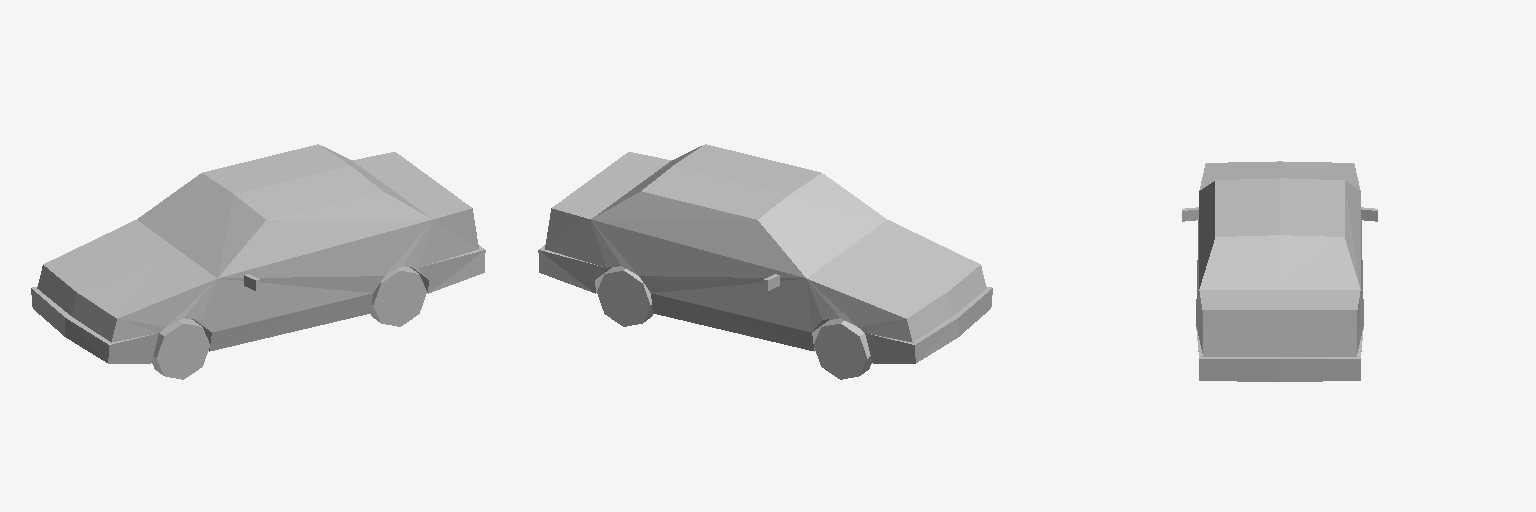
Rendered from Car2_o2.obj.
The picture shows the model from 3 angles: view 1: azimuth 30°, elevation 25°; view 2: azimuth 150°, elevation 25°; view 3: azimuth 270°, elevation 25°; orthographic projection.
Parts seen in each view (by area): view 1: Car2; view 2: Car2; view 3: Car2.
Part boxes in pixels (x1,y1,x2,y2): Car2: (31,144,485,379); Car2: (538,144,992,379); Car2: (1182,161,1377,381).
Bounding box in the file's own units: 3.56 × 1.2 × 1.58.